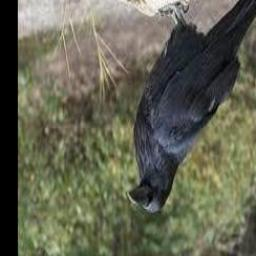Crow: (126, 0, 256, 214)
